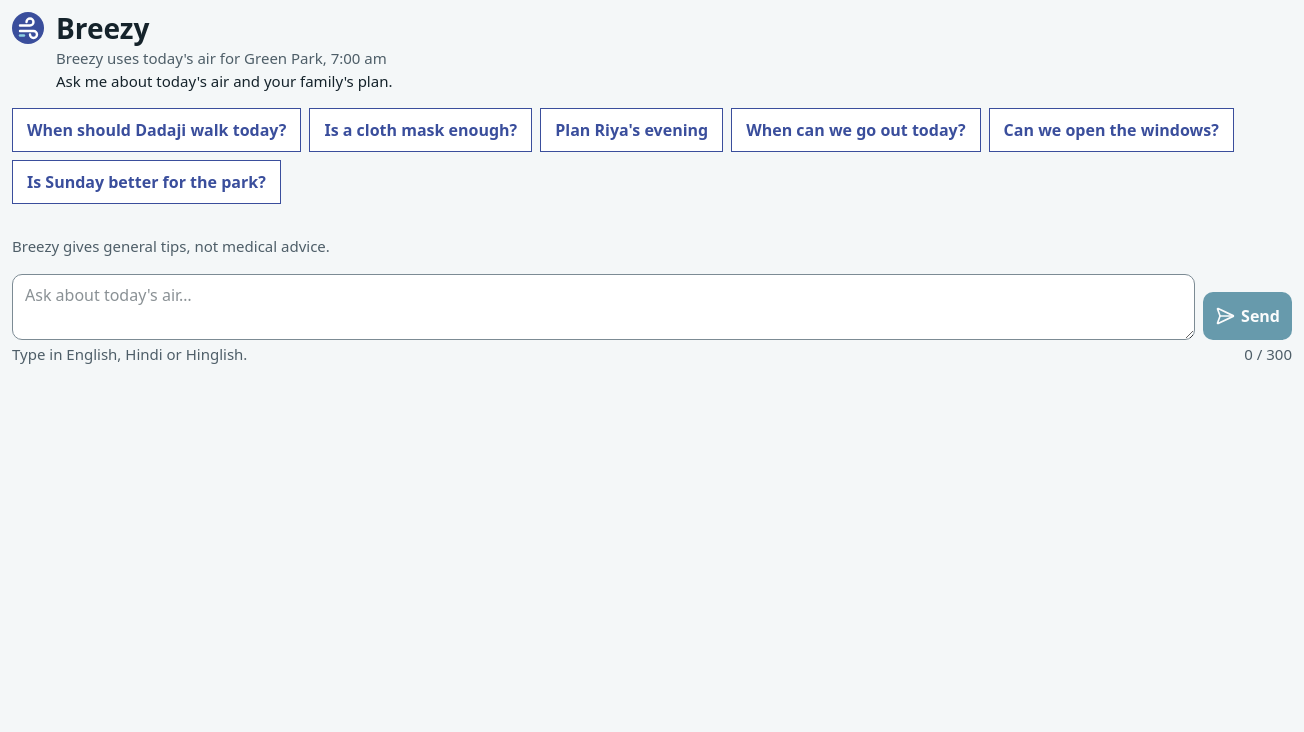
it: BreezyView › says when the alias could not be saved, and a failed add keeps the sheet open
The width and height of the screenshot is (1304, 732).
Type "Papa?" into the text box named "Your question for Breezy" at coordinates (604, 307), box 12,274 -> 1195,340
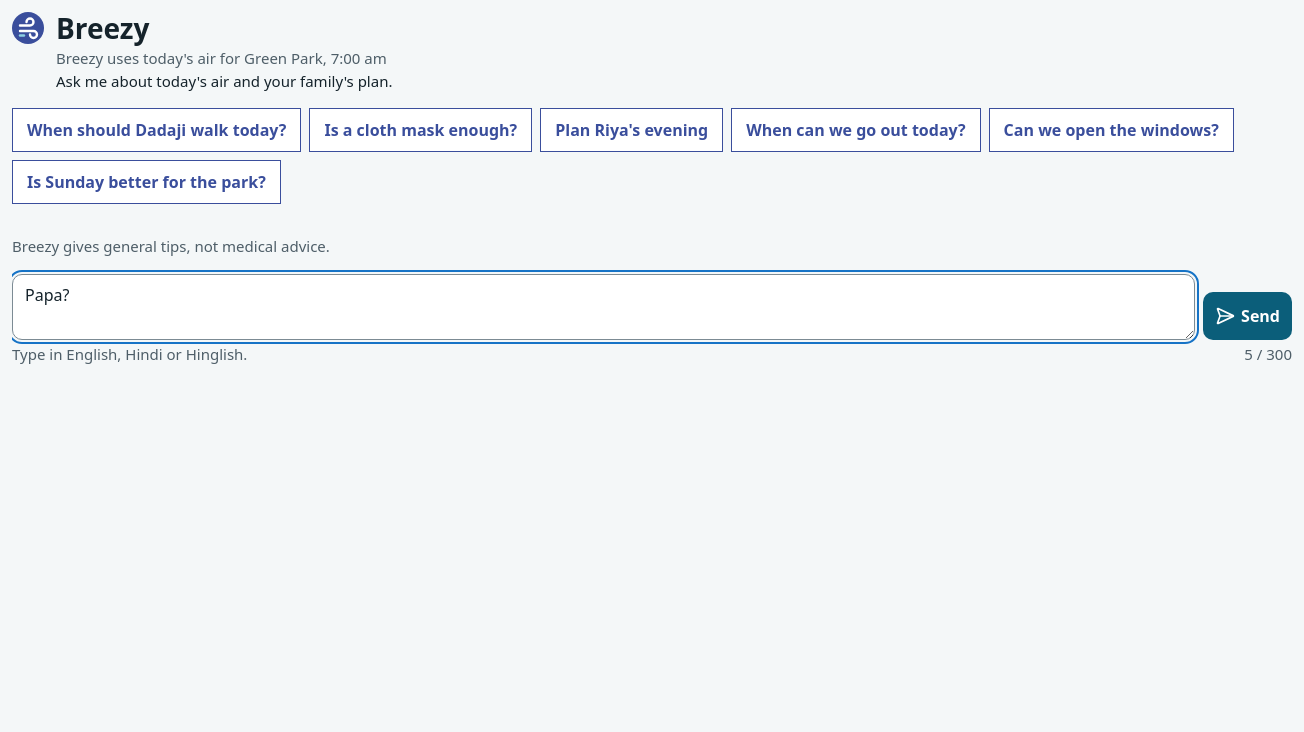
Click the button "Send" at coordinates (1248, 316), box 1203,292 -> 1292,340
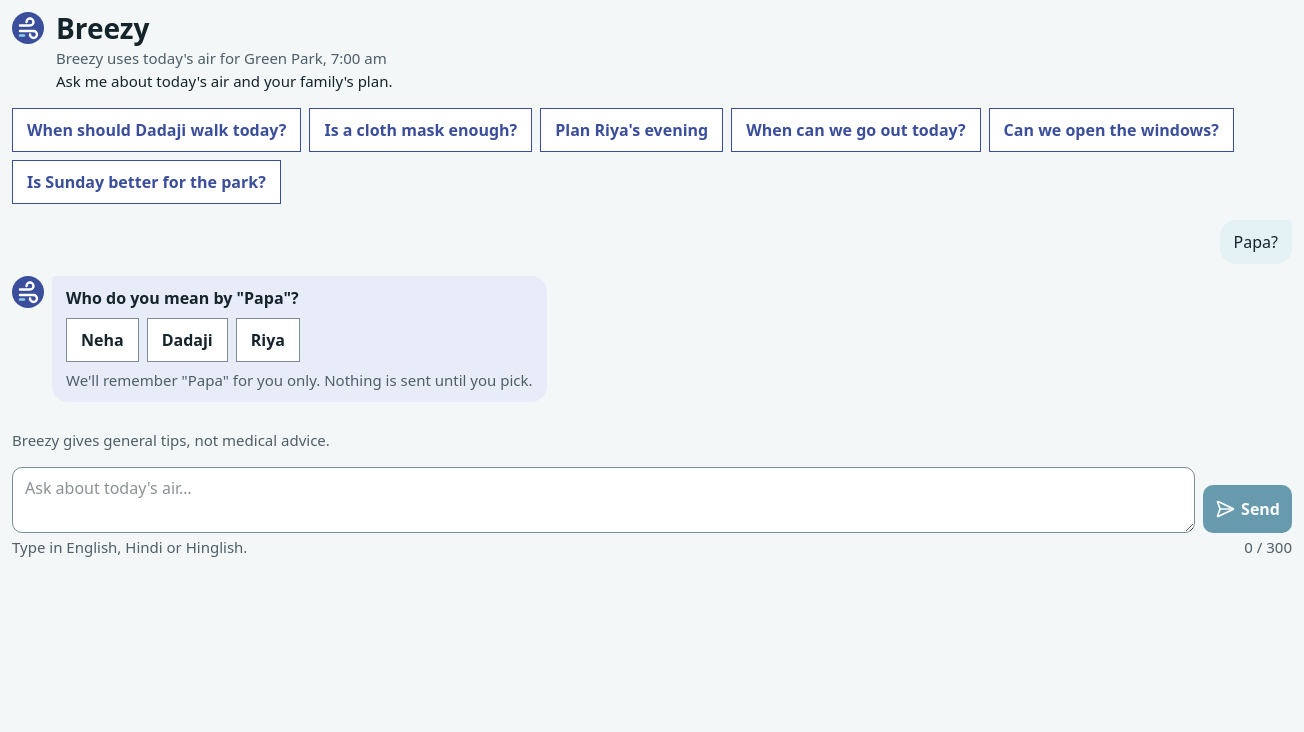
Click the button "Dadaji" at coordinates (187, 340), box 147,318 -> 228,362
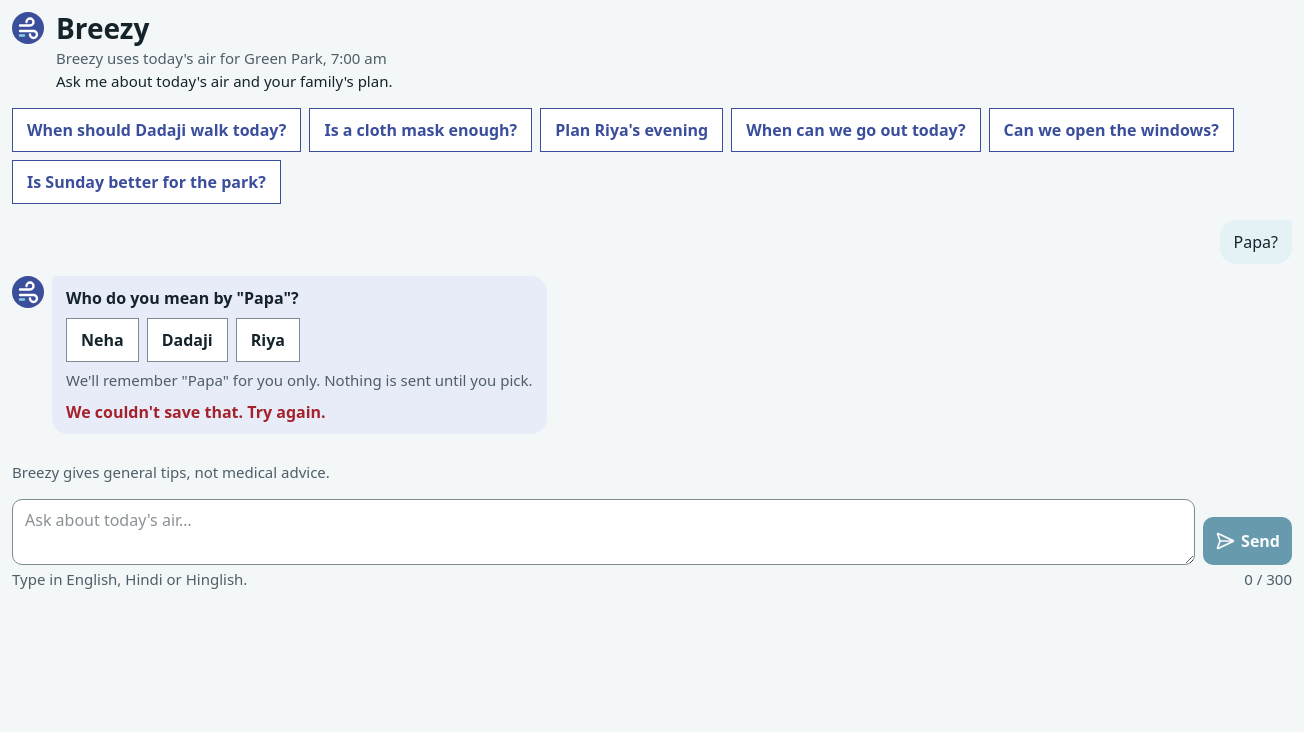
Now the text "We couldn't save that. Try again." is shown, box 66,401 -> 326,423
